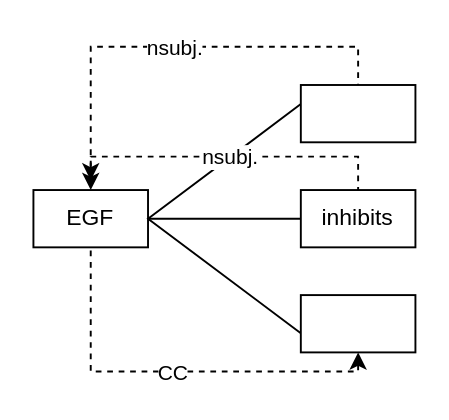
This 449x420 diagram has some shape labels left out. The shapes that lost their labels are listed below. From the top down, each one's centre as x and y in pixels, then its label:
At pixel 357 112: "encodes".
At pixel 357 322: "and".
